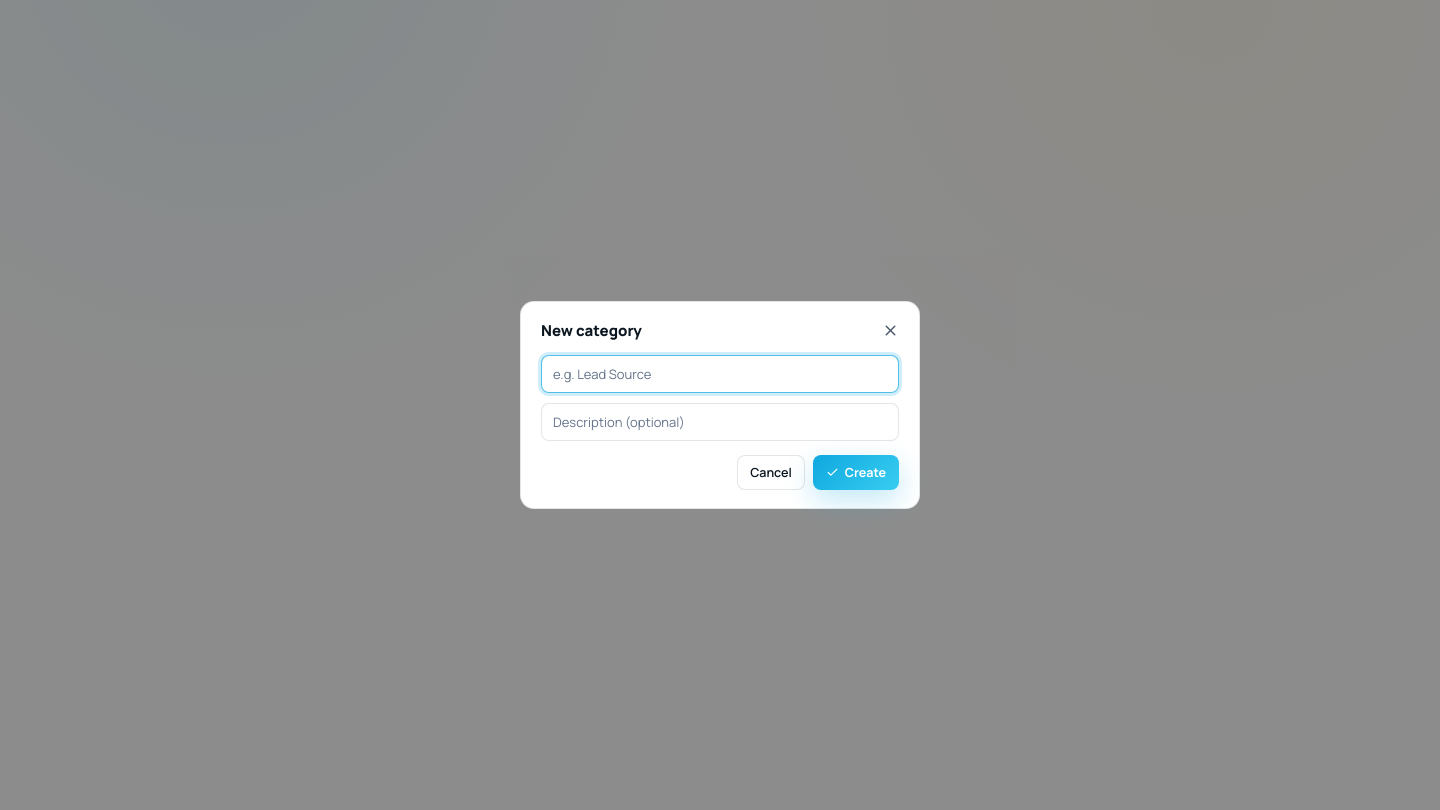
Test: CreateCategoryModal › requires a name
Click the button "Create" at point(856, 472), box [813,455,899,490]
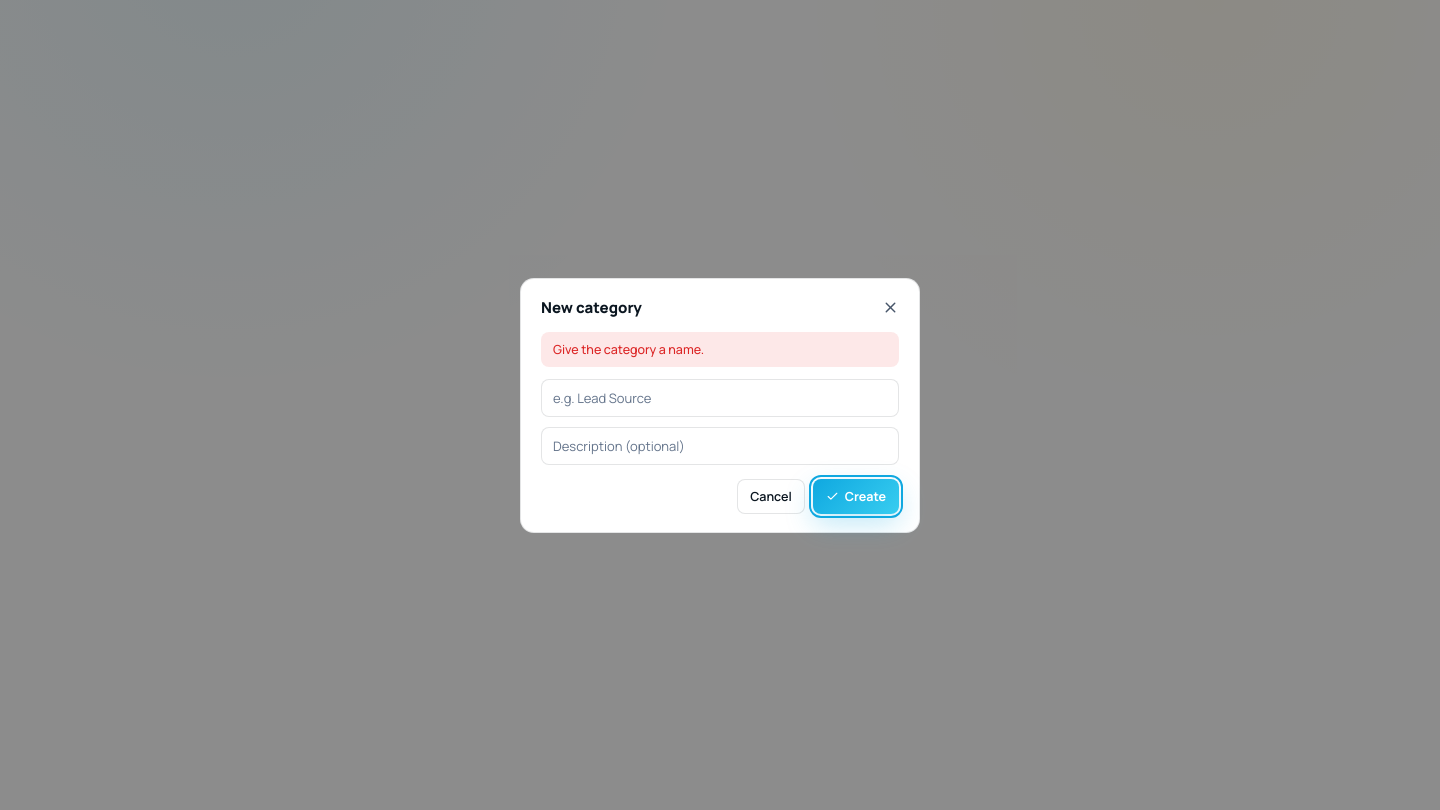
Expected: the message "Give the category a name." is shown, [541,332,899,366]
